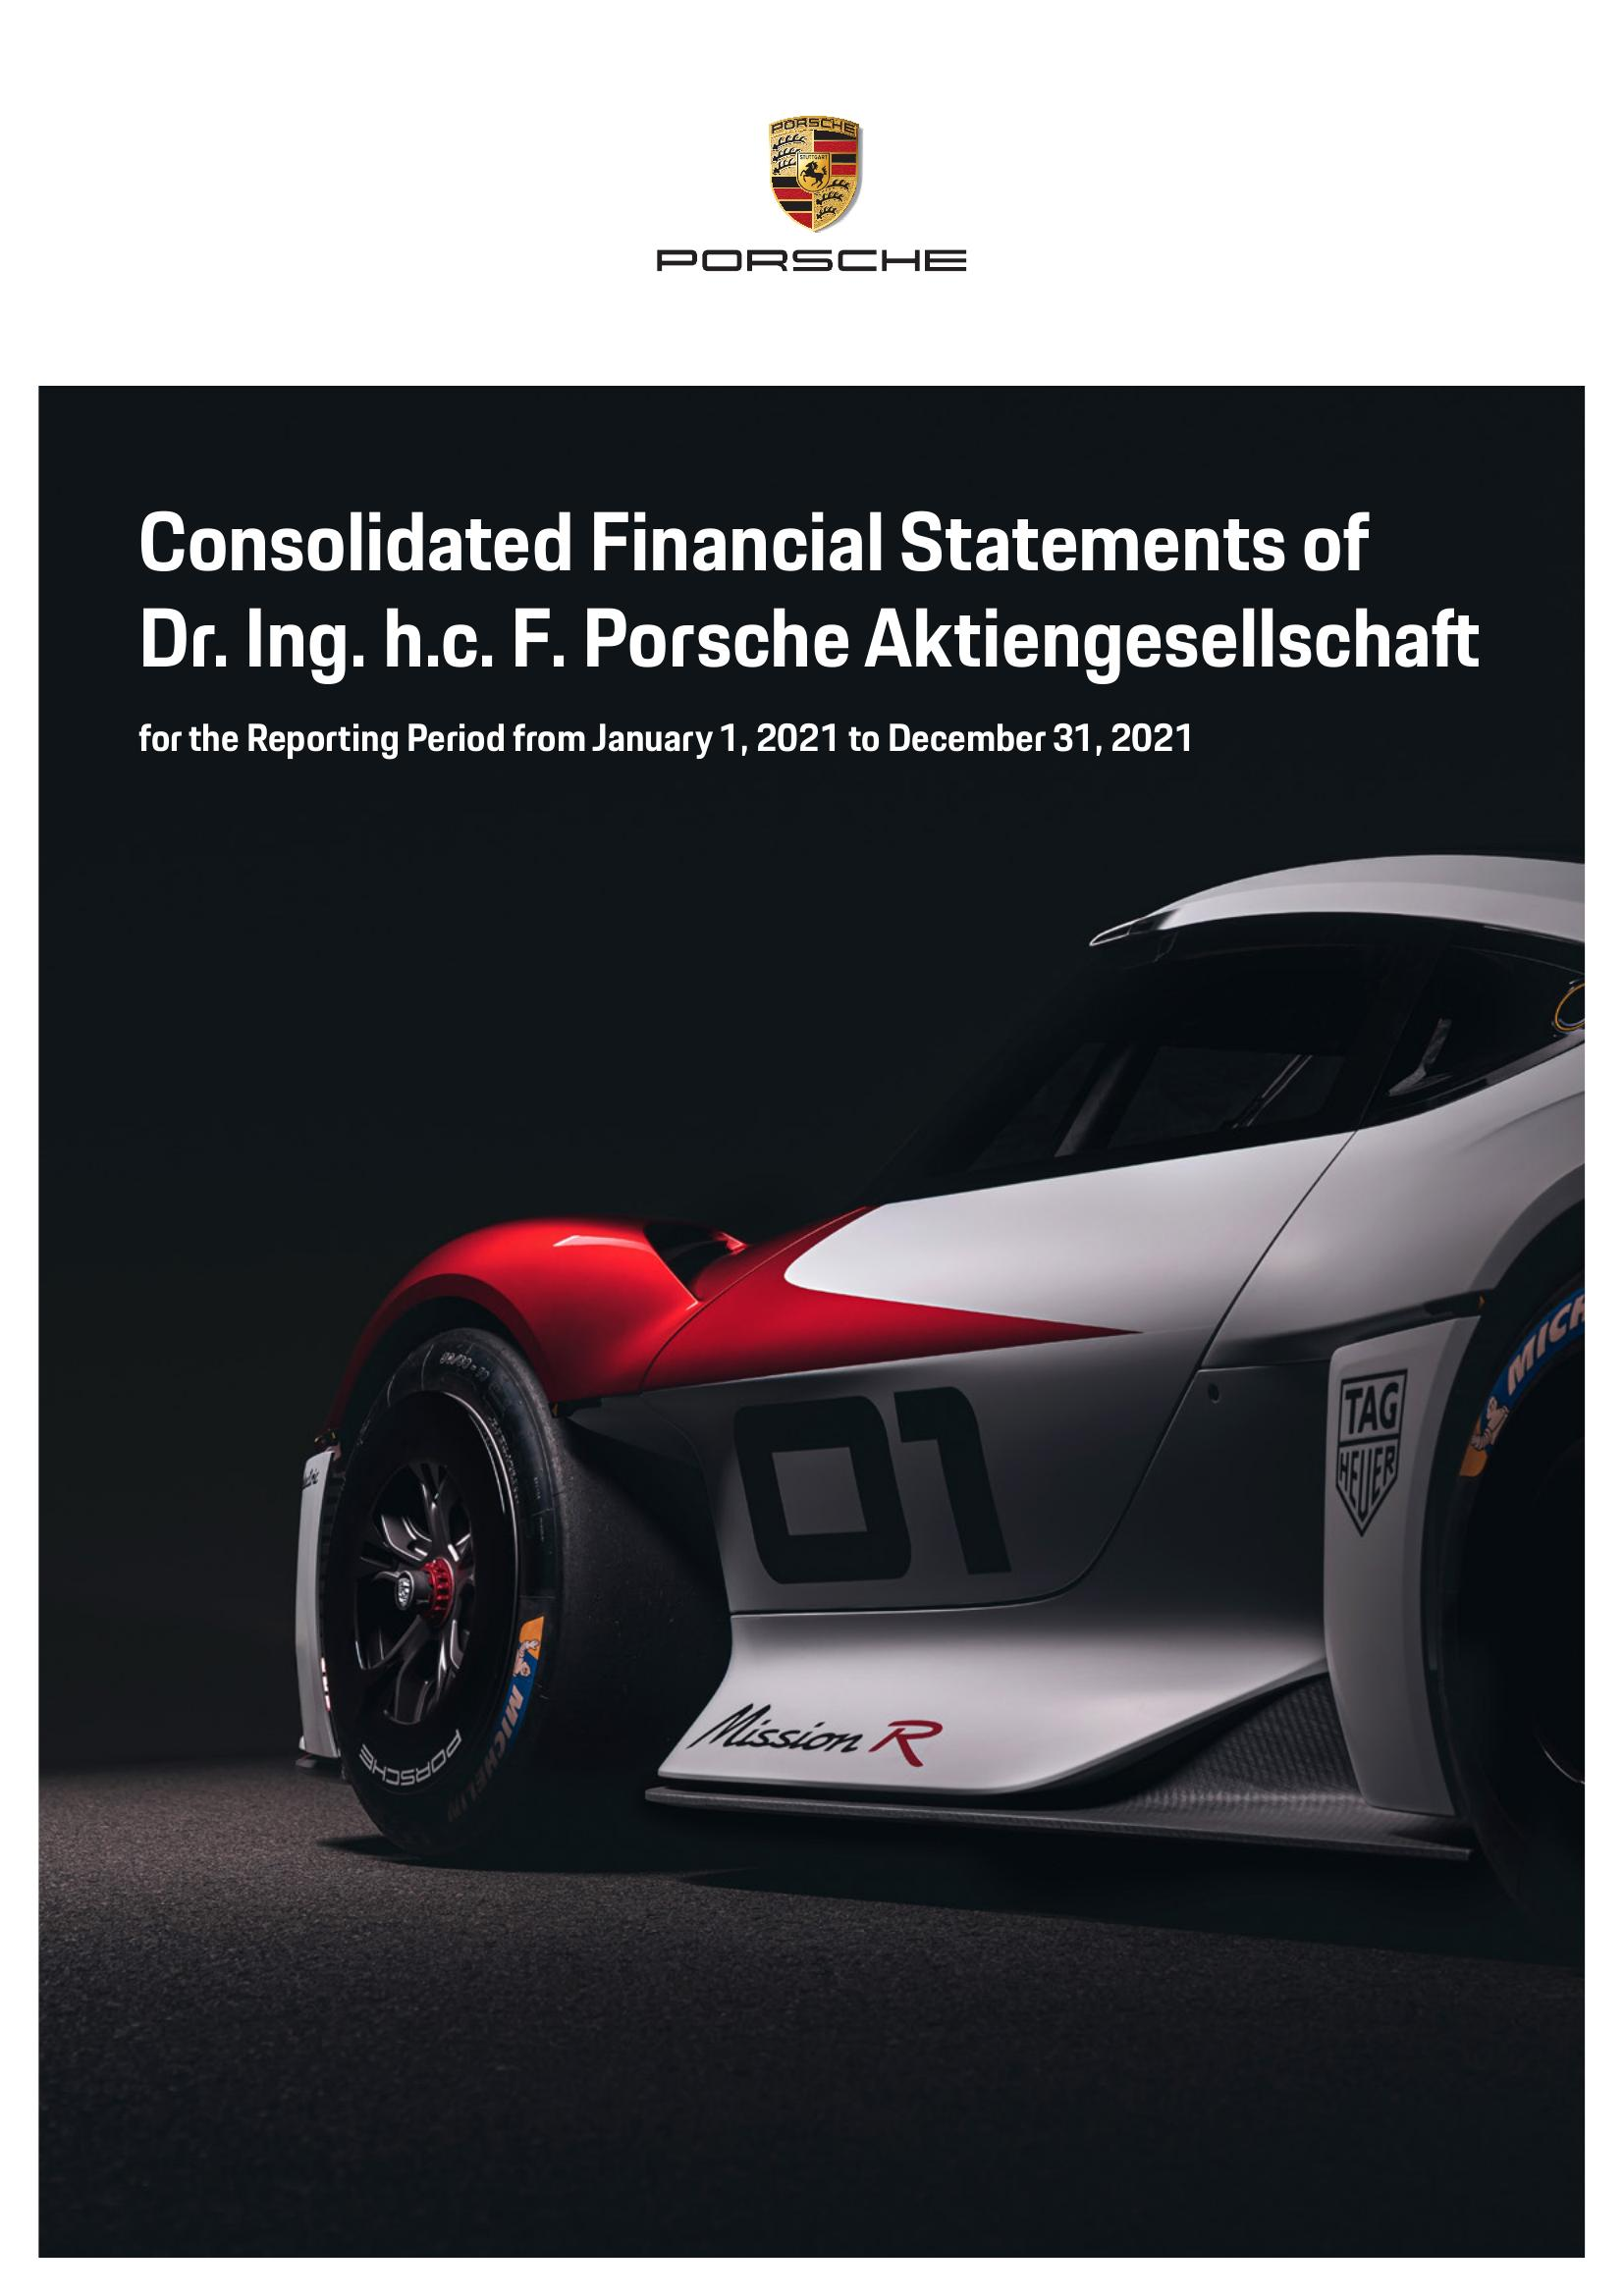Image: (37, 385, 1596, 2250)
